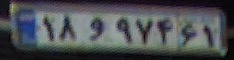character: (56, 13, 79, 44), (113, 15, 134, 47), (155, 15, 176, 46), (135, 15, 154, 48), (200, 21, 220, 50), (86, 14, 107, 41), (180, 21, 199, 50), (38, 14, 56, 44)
